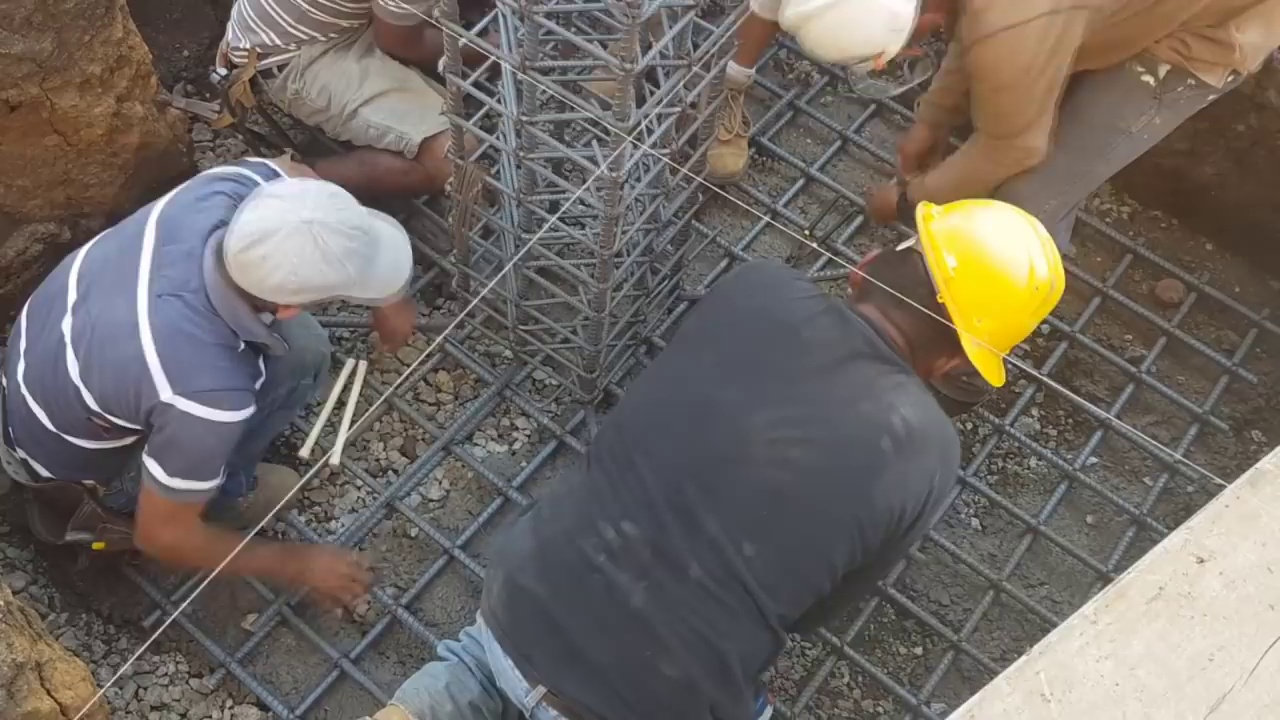helmet: (918, 186, 1076, 390), (776, 0, 920, 75)
helmet-off: (189, 185, 413, 350)
helmet-on: (835, 191, 1073, 394), (772, 3, 969, 72)
person: (351, 182, 1076, 720), (0, 156, 409, 611), (775, 1, 1280, 224), (218, 0, 490, 190), (590, 0, 781, 182)
